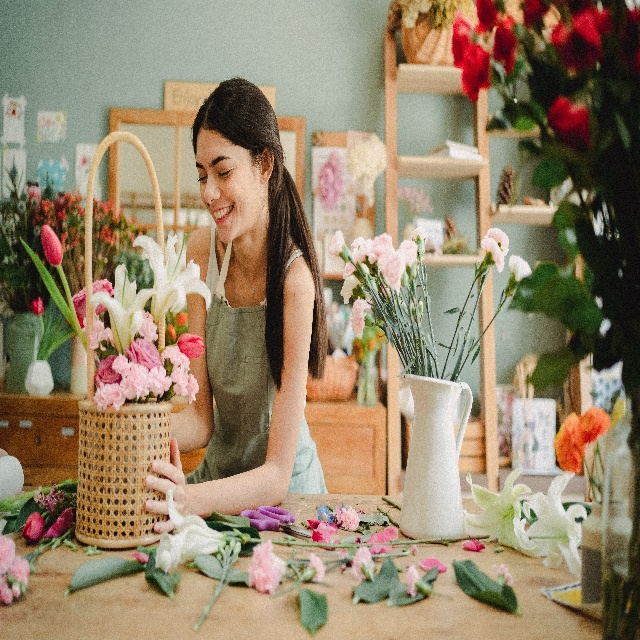Sin_guantes: (143, 436, 191, 532)
